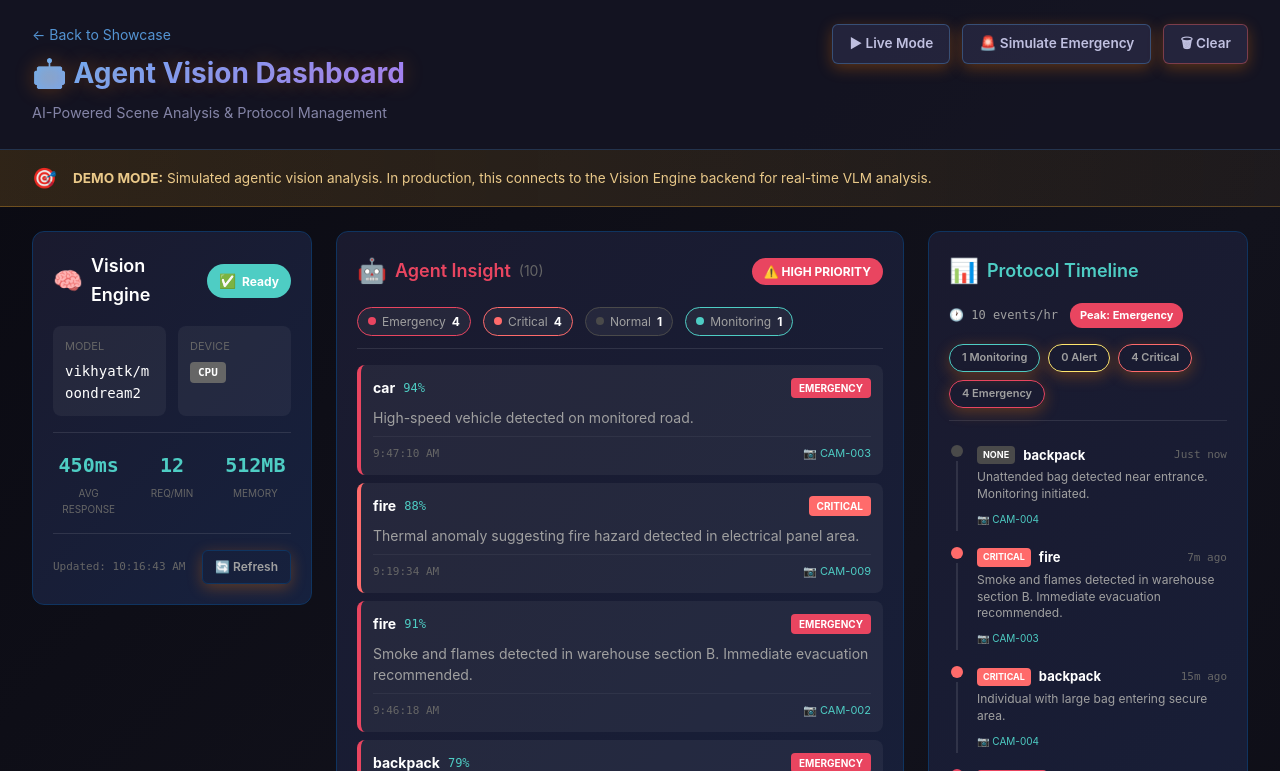
AgentVisionDashboard › live mode › toggles live mode on button click
Step 1. Click the button with test id "live-mode-toggle" → (891, 44), box x1=832 y1=24 x2=950 y2=64
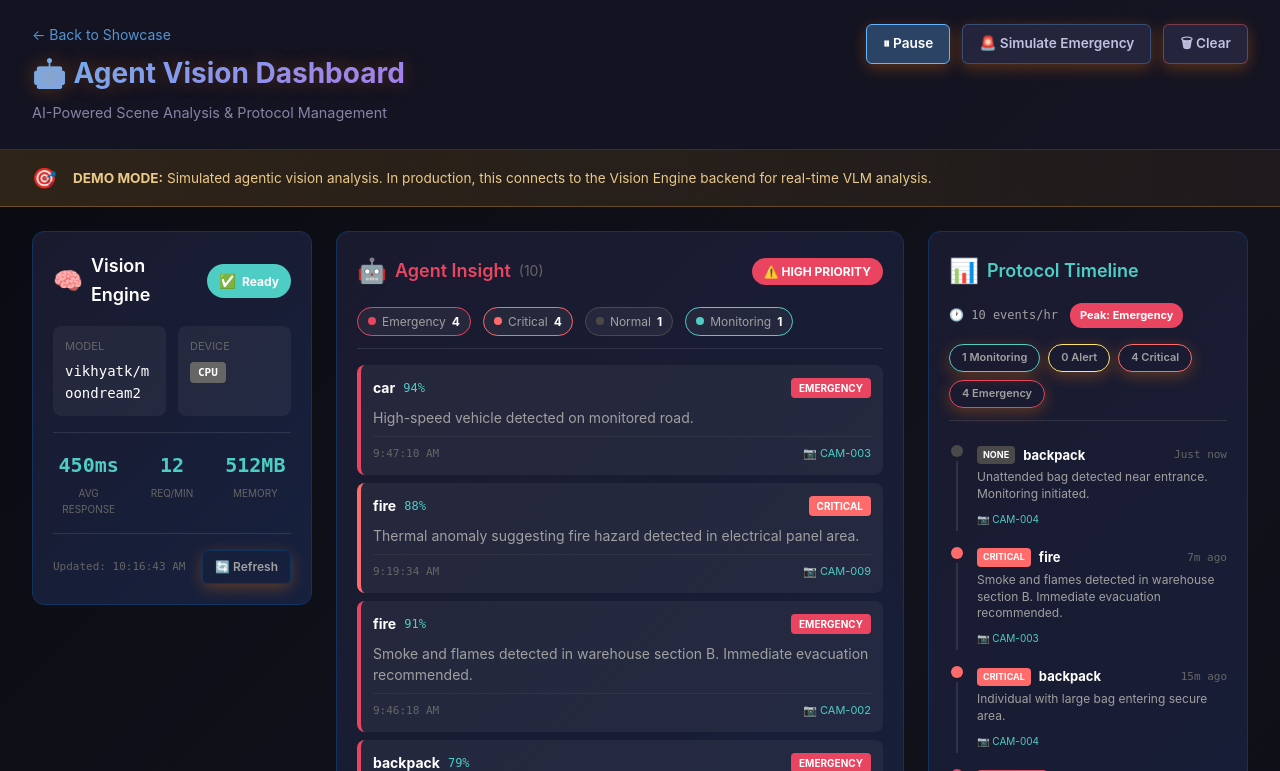
Expected: the button with test id "live-mode-toggle" shows "Pause", x1=866 y1=24 x2=950 y2=64
